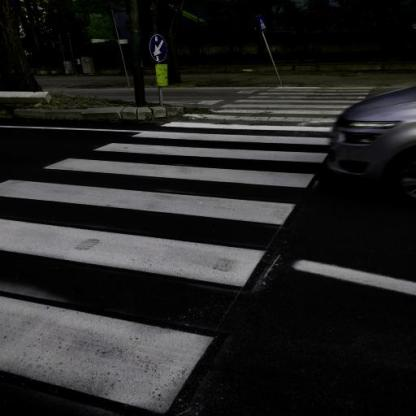crosswalk: (0, 156, 317, 230)
